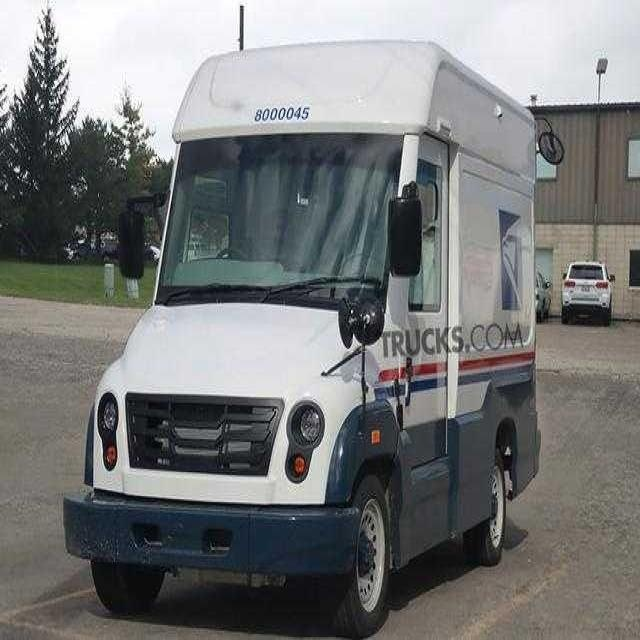Truck: (57, 28, 552, 640)
